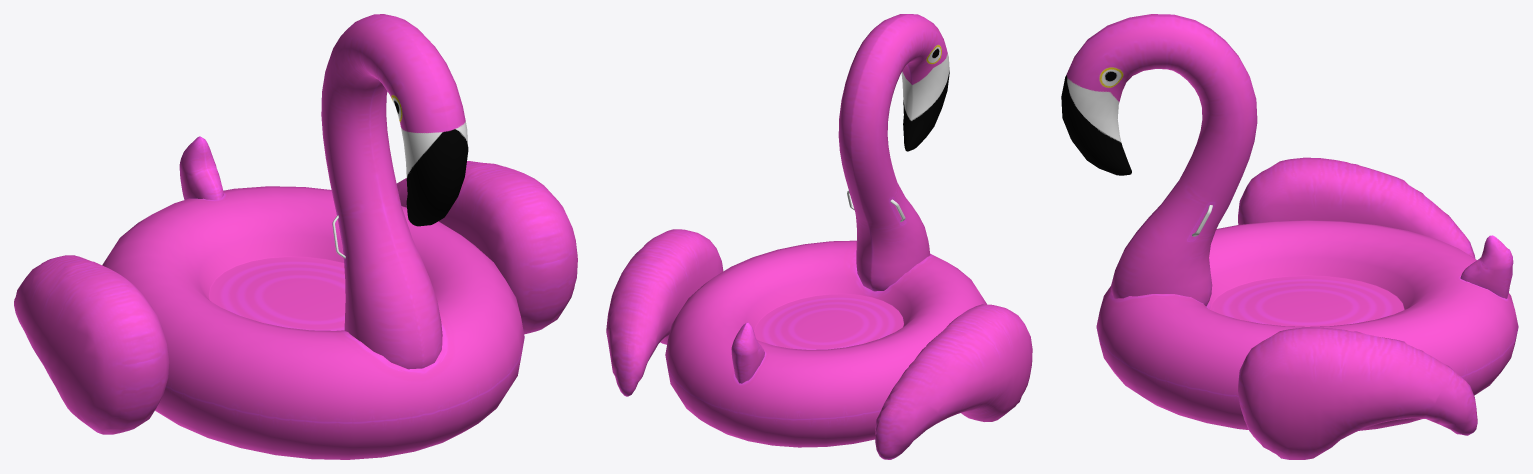
File: PoolFloat11.FBX
3 views of the same model, side by side, from view 1: azimuth 30°, elevation 25°; view 2: azimuth 150°, elevation 25°; view 3: azimuth 270°, elevation 25° (orthographic). The views are drawn at different scales.
Visible parts, largest first — view 1: PoolFloat11; view 2: PoolFloat11; view 3: PoolFloat11.
Part boxes in pixels (x1,y1,x2,y2): PoolFloat11: [14, 14, 577, 459]; PoolFloat11: [606, 14, 1032, 459]; PoolFloat11: [1061, 14, 1518, 459].
Size of what is drawn, in the model's own units: 1.77 by 1.42 by 1.64.
